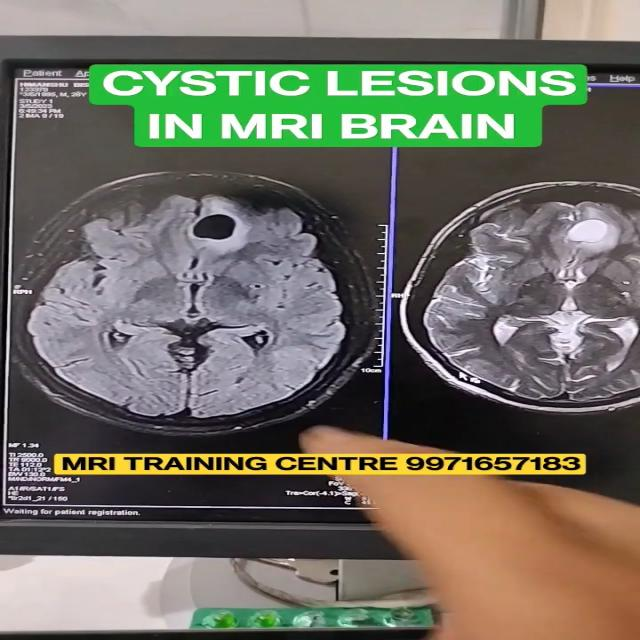tumor: (158, 186, 255, 247), (543, 209, 633, 253)
